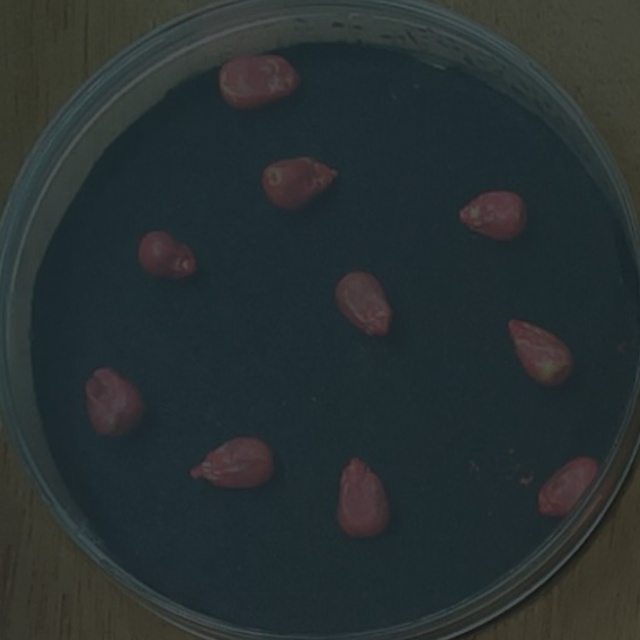Zea mays: (211, 46, 307, 117), (329, 449, 398, 547), (499, 312, 581, 394), (183, 428, 281, 496), (255, 151, 347, 219), (76, 361, 152, 443), (327, 263, 402, 344), (531, 448, 607, 526), (451, 182, 538, 249), (131, 224, 205, 290)
